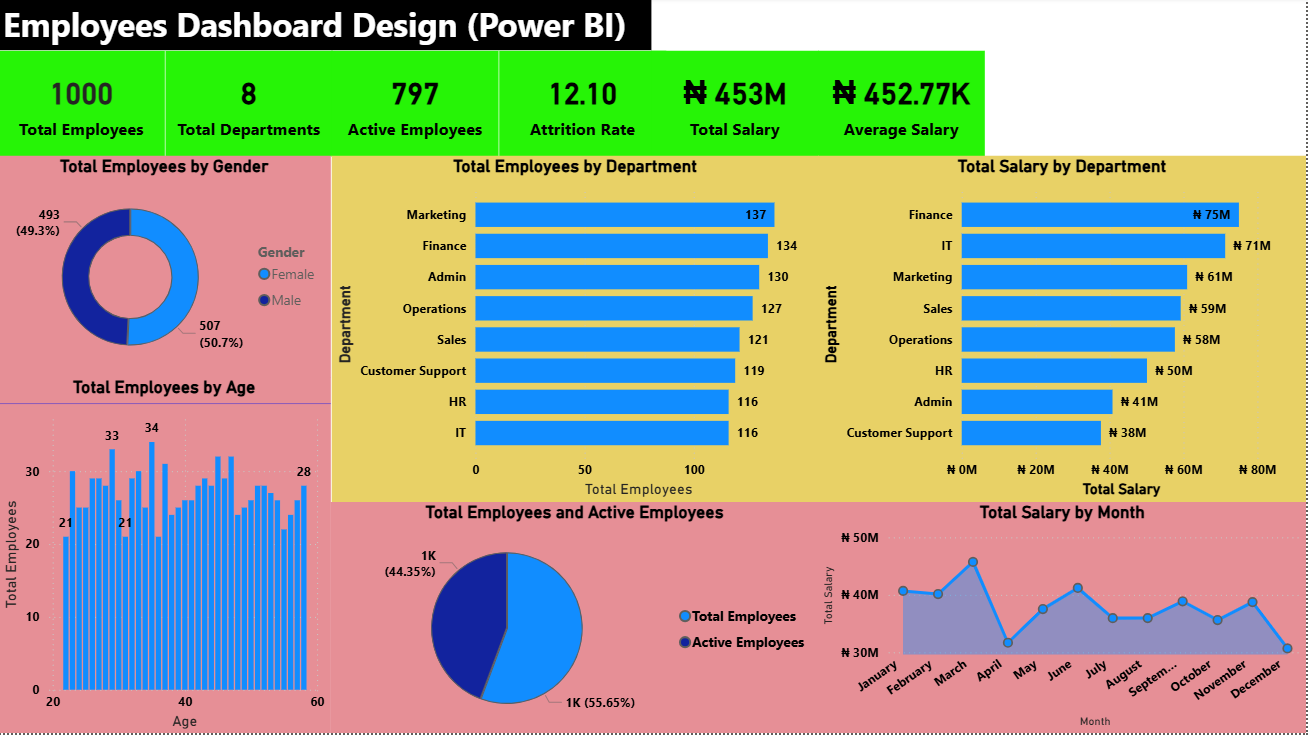

The dashboard page shown, as its layout file describes it:
{"tool":"powerbi","page":{"name":"Page 1","canvas":[1280,720],"ordinal":0},"visuals":[{"type":"textbox","box":[0,0,639.5,52.1],"z":0},{"type":"card","fields":{"Values":["HR  Employees datasets.Total Employees"]},"box":[0,52.1,163.3,102.9],"z":1000},{"type":"card","fields":{"Values":["HR  Employees datasets.Total Departments"]},"box":[163.3,52.1,163.3,102.9],"z":2000},{"type":"card","fields":{"Values":["HR  Employees datasets.Active Employees"]},"box":[326.6,52.1,163.3,102.9],"z":3000},{"type":"card","fields":{"Values":["HR  Employees datasets.Attrition Rate"]},"box":[489.9,52.1,163.3,102.9],"z":4000},{"type":"card","fields":{"Values":["HR  Employees datasets.Average Salary"]},"box":[802.7,52.1,163.3,102.9],"z":5000},{"type":"card","fields":{"Values":["HR  Employees datasets.Total Salary"]},"box":[639.5,52.1,163.3,102.9],"z":6000},{"type":"donutChart","fields":{"Y":["HR  Employees datasets.Total Employees"],"Category":["HR  Employees datasets.Gender"]},"box":[0,155.1,325.2,216.8],"z":7000},{"type":"columnChart","fields":{"Y":["HR  Employees datasets.Total Employees"],"Category":["HR  Employees datasets.Age"]},"box":[0,371.9,325.2,348.5],"z":8000},{"type":"barChart","fields":{"Y":["HR  Employees datasets.Total Employees"],"Category":["HR  Employees datasets.Department"]},"box":[326.6,155.1,476.2,338.9],"z":9000},{"type":"barChart","fields":{"Y":["HR  Employees datasets.Total Salary"],"Category":["HR  Employees datasets.Department"]},"box":[802.7,155.1,477.5,338.9],"z":10000},{"type":"pieChart","fields":{"Y":["HR  Employees datasets.Total Employees","HR  Employees datasets.Active Employees"]},"box":[325.2,494,477.5,226.4],"z":11000},{"type":"lineChart","fields":{"Category":["HR  Employees datasets.Date_Hired.Variation.Date Hierarchy.Month"],"Y":["HR  Employees datasets.Total Salary"]},"box":[802.2,494,478.1,226.2],"z":12000}]}

Visuals, with their boxes in screenshot pixels (x1, y1, x2, y2), scaled from the page's 1280x720 canvas onto the 1308x735 screenshot:
textbox: (0, 0, 653, 53)
card - HR  Employees datasets.Total Employees: (0, 53, 167, 158)
card - HR  Employees datasets.Total Departments: (167, 53, 334, 158)
card - HR  Employees datasets.Active Employees: (334, 53, 501, 158)
card - HR  Employees datasets.Attrition Rate: (501, 53, 667, 158)
card - HR  Employees datasets.Average Salary: (820, 53, 987, 158)
card - HR  Employees datasets.Total Salary: (653, 53, 820, 158)
donutChart - HR  Employees datasets.Total Employees x HR  Employees datasets.Gender: (0, 158, 332, 380)
columnChart - HR  Employees datasets.Total Employees x HR  Employees datasets.Age: (0, 380, 332, 734)
barChart - HR  Employees datasets.Total Employees x HR  Employees datasets.Department: (334, 158, 820, 504)
barChart - HR  Employees datasets.Total Salary x HR  Employees datasets.Department: (820, 158, 1307, 504)
pieChart - HR  Employees datasets.Total Employees x HR  Employees datasets.Active Employees: (332, 504, 820, 734)
lineChart - HR  Employees datasets.Date_Hired.Variation.Date Hierarchy.Month x HR  Employees datasets.Total Salary: (820, 504, 1307, 734)
